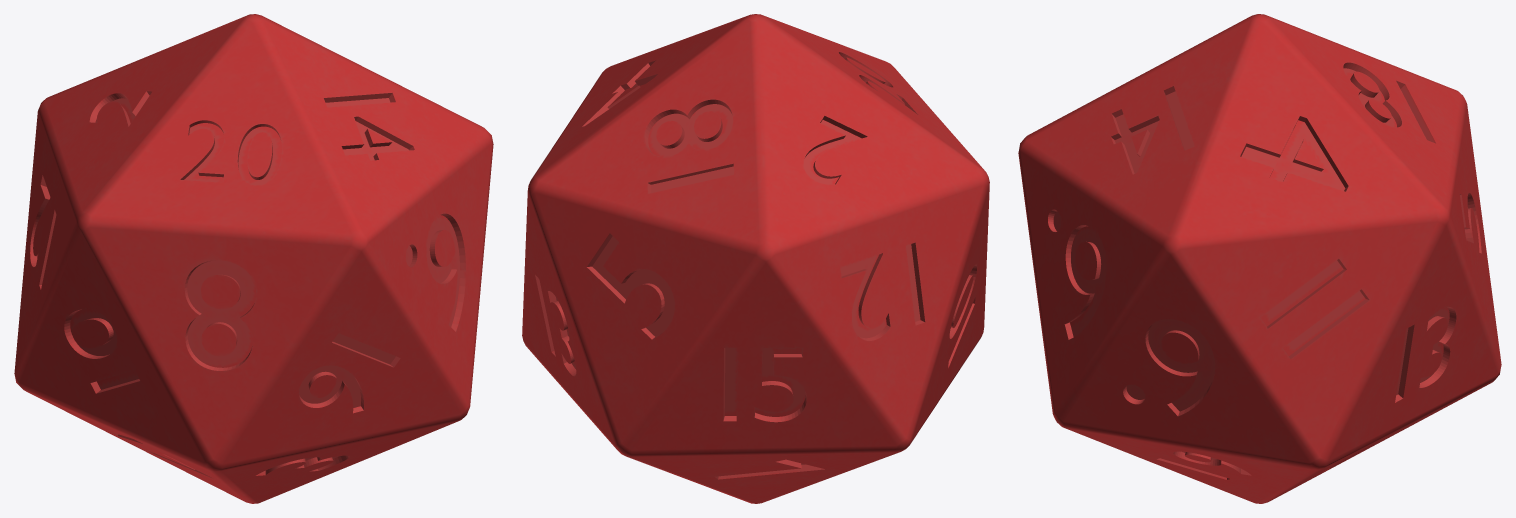
The model's file is Dice_textured3.gltf.
The picture shows the model from 3 angles, left to right: view 1: azimuth 30°, elevation 25°; view 2: azimuth 150°, elevation 25°; view 3: azimuth 270°, elevation 25°; orthographic projection.
Visible parts, largest first — view 1: Icosphere; view 2: Icosphere; view 3: Icosphere.
Boxes of the visible parts, x1,y1,x2,y2 form: Icosphere: (14,14,493,503); Icosphere: (522,14,989,503); Icosphere: (1018,14,1501,503).
Bounding box in the file's own units: 3.94 × 4.5 × 4.04.
1 material, 1 textured.
